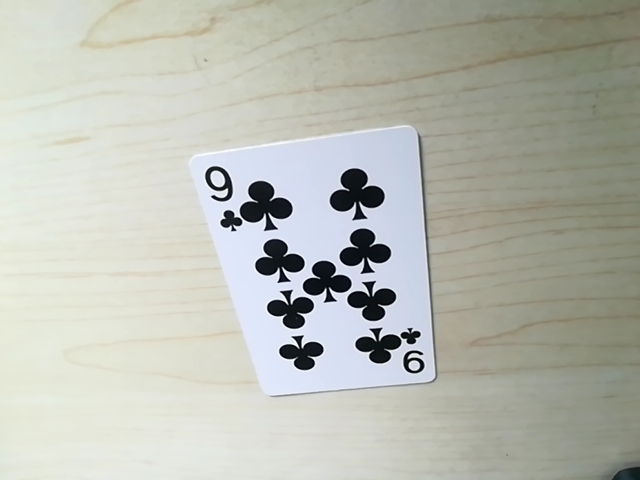mh 9: (378, 334, 432, 378), (201, 162, 237, 224)
